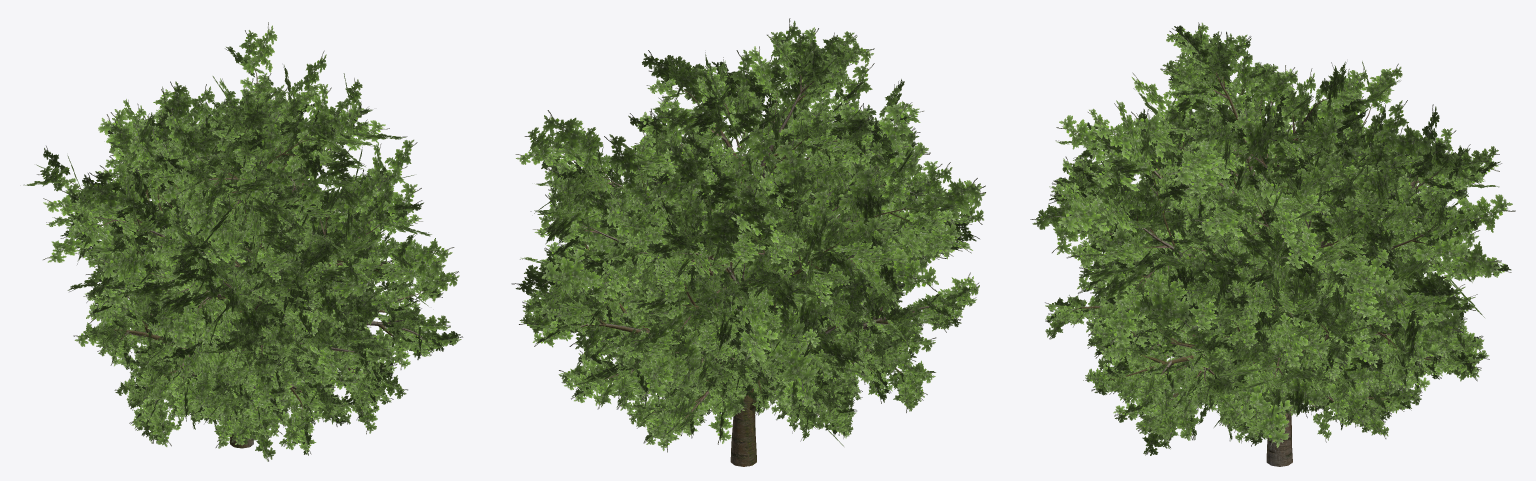
Rendered from oaks.glb.
3 renders of one model, left to right at view 1: azimuth 30°, elevation 25°; view 2: azimuth 150°, elevation 25°; view 3: azimuth 270°, elevation 25°, orthographic. The views are drawn at different scales.
Parts seen in each view (by area): view 1: oak1_far_leaves, oak1_leaves, oak2_leaves, oak2_far_leaves, oak1_bark, oak1_far_bark, oak0_far_leaves; view 2: oak1_far_leaves, oak1_leaves, oak2_leaves, oak2_far_leaves, oak1_bark, oak0_leaves, oak1_far_bark, oak0_far_leaves; view 3: oak1_far_leaves, oak1_leaves, oak2_far_leaves, oak2_leaves, oak1_bark, oak0_far_leaves, oak1_far_bark, oak0_leaves.
Part boxes in pixels (left/top/right/bottom): oak1_far_leaves: left=23, top=22, right=454, bottom=400; oak1_leaves: left=73, top=86, right=462, bottom=461; oak2_leaves: left=114, top=146, right=316, bottom=423; oak2_far_leaves: left=118, top=135, right=380, bottom=435; oak1_bark: left=105, top=127, right=431, bottom=448; oak1_far_bark: left=66, top=67, right=408, bottom=447; oak0_far_leaves: left=129, top=185, right=348, bottom=441; oak1_far_leaves: left=511, top=18, right=985, bottom=402; oak1_leaves: left=519, top=27, right=979, bottom=452; oak2_leaves: left=600, top=152, right=897, bottom=438; oak2_far_leaves: left=604, top=128, right=890, bottom=446; oak1_bark: left=578, top=74, right=945, bottom=466; oak0_leaves: left=620, top=230, right=872, bottom=429; oak1_far_bark: left=550, top=86, right=926, bottom=466; oak0_far_leaves: left=600, top=206, right=866, bottom=415; oak1_far_leaves: left=1030, top=61, right=1515, bottom=449; oak1_leaves: left=1036, top=22, right=1511, bottom=455; oak2_far_leaves: left=1130, top=125, right=1394, bottom=446; oak2_leaves: left=1143, top=156, right=1398, bottom=443; oak1_bark: left=1072, top=71, right=1453, bottom=466; oak0_far_leaves: left=1163, top=204, right=1393, bottom=441; oak1_far_bark: left=1083, top=96, right=1442, bottom=463; oak0_leaves: left=1158, top=191, right=1364, bottom=423.
Bounding box in the file's own units: 18.39 × 17.22 × 17.61.
2 materials, 2 textured.
